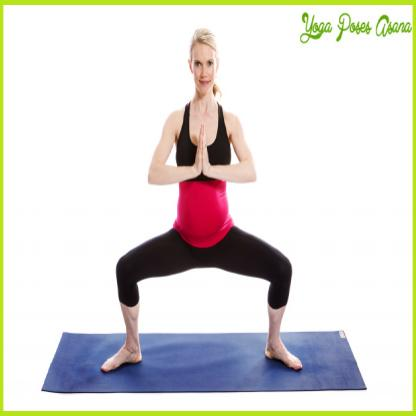godness: (92, 23, 307, 377)
